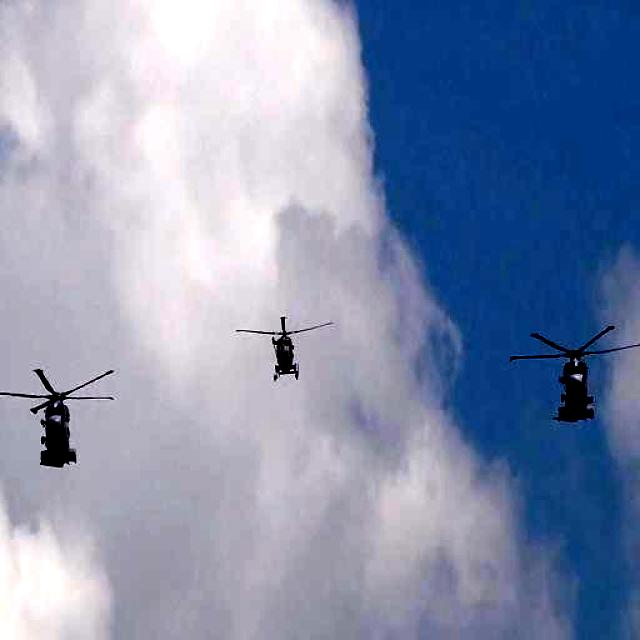drone: (502, 310, 640, 434), (0, 361, 124, 482), (238, 305, 336, 385)
